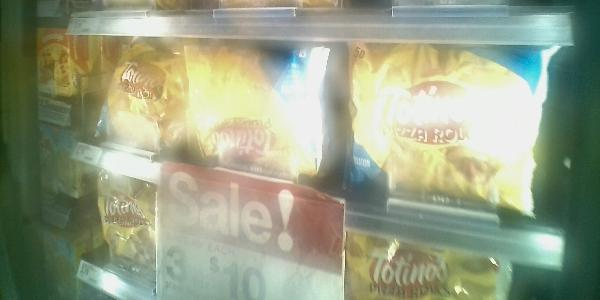icecream: (343, 43, 547, 216), (181, 39, 327, 183), (81, 30, 186, 160), (36, 23, 88, 136)
